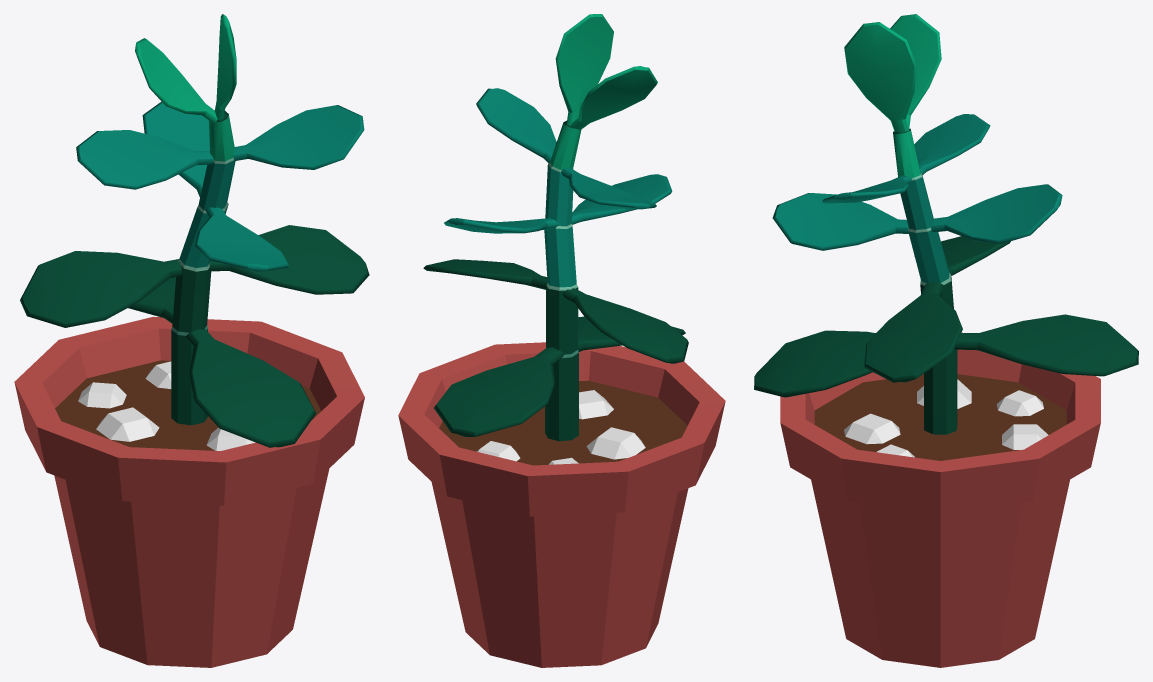
The model's file is PW_sculent01_S.fbx.
The picture shows the model from 3 angles, left to right: view 1: azimuth 30°, elevation 25°; view 2: azimuth 150°, elevation 25°; view 3: azimuth 270°, elevation 25°; orthographic projection. The views are drawn at different scales.
Parts seen in each view (by area): view 1: pot, plant, soil, rock; view 2: pot, plant, soil, rock; view 3: pot, plant, soil, rock.
Part boxes in pixels (<box>): pot: <box>14,316,364,667</box>; plant: <box>20,14,369,447</box>; soil: <box>55,360,321,450</box>; rock: <box>78,361,255,450</box>; pot: <box>398,342,725,667</box>; plant: <box>423,14,688,441</box>; soil: <box>439,380,687,465</box>; rock: <box>477,390,645,464</box>; pot: <box>780,332,1100,667</box>; plant: <box>754,14,1138,434</box>; soil: <box>814,374,1066,460</box>; rock: <box>844,379,1048,457</box>.
Bounding box in the file's own units: 38.51 × 74.51 × 42.94.
1 material, 1 textured.
